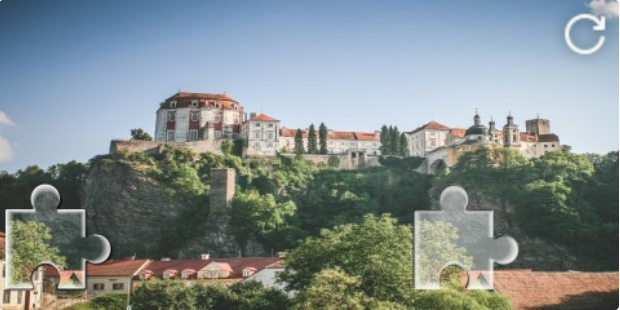target: (414, 185, 519, 291)
